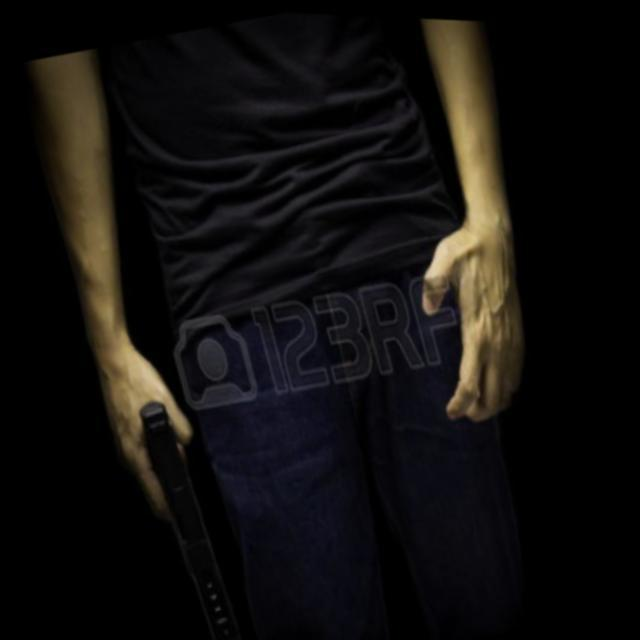weapon: (130, 391, 240, 640)
